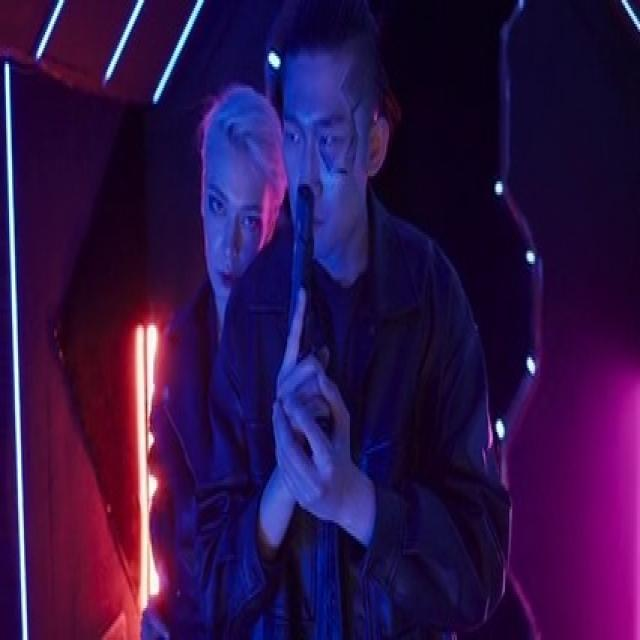Gun_Holder: (264, 192, 361, 488)
Jacket_Wearer: (209, 192, 515, 640)
Person: (253, 0, 507, 640), (148, 79, 286, 636)
